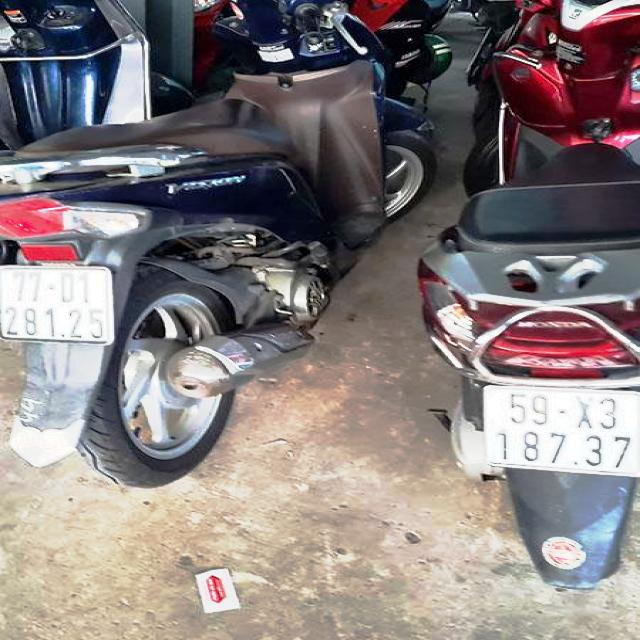license_plate: (487, 382, 640, 474), (1, 268, 110, 344)
